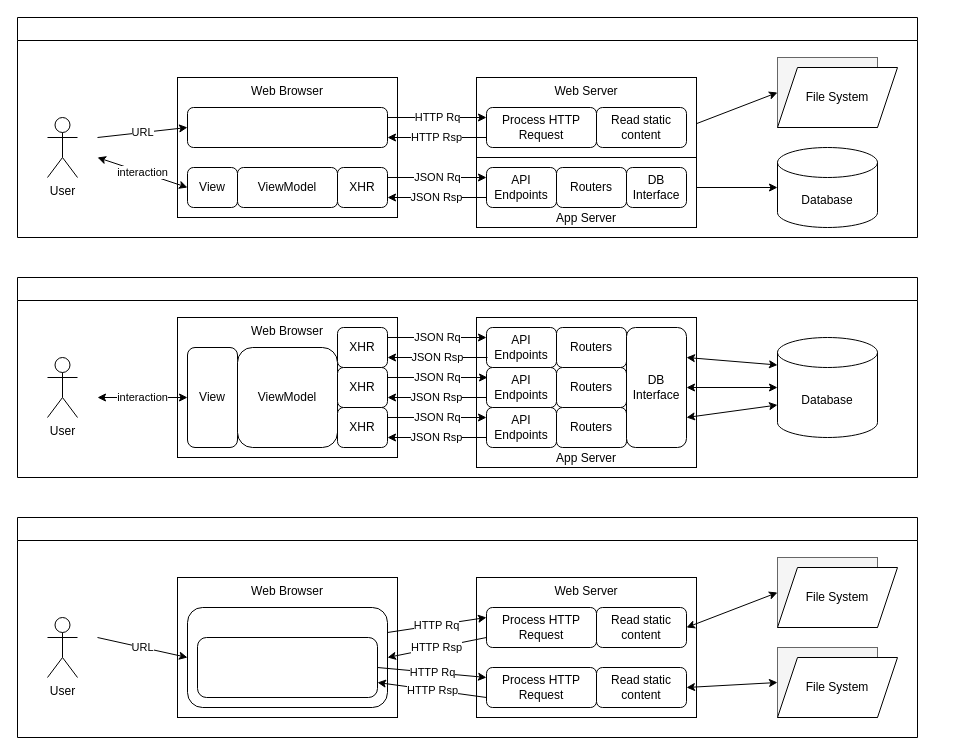
Image size: 955x755. Some labels were removed from this diagram. The box of each missing label's shape, as (x1, y1, x2, y2) in pixels:
Application of a Micro-frontend architecture: (16, 516, 918, 738)
Get Host Page (index.html): (186, 606, 388, 708)
Get Page (index.html): (186, 106, 388, 148)
Get Remote: App <iframe> Component <web-comp>: (196, 636, 378, 698)
Traditional FE, MicroService BE: (16, 276, 918, 478)
Traditional Monoliths: (16, 16, 918, 238)
